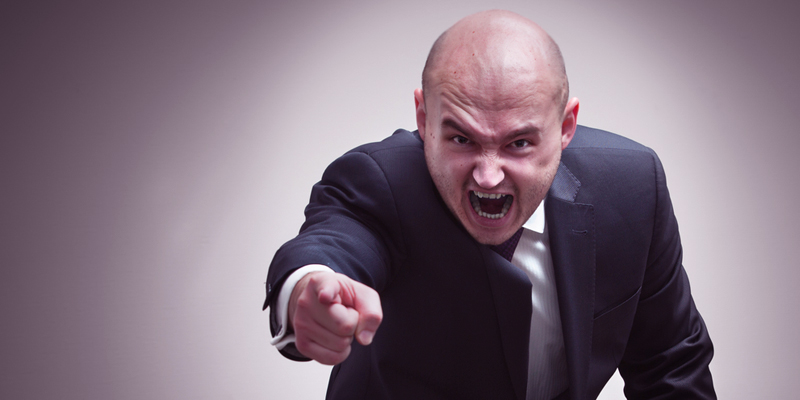angry: (427, 99, 563, 241)
